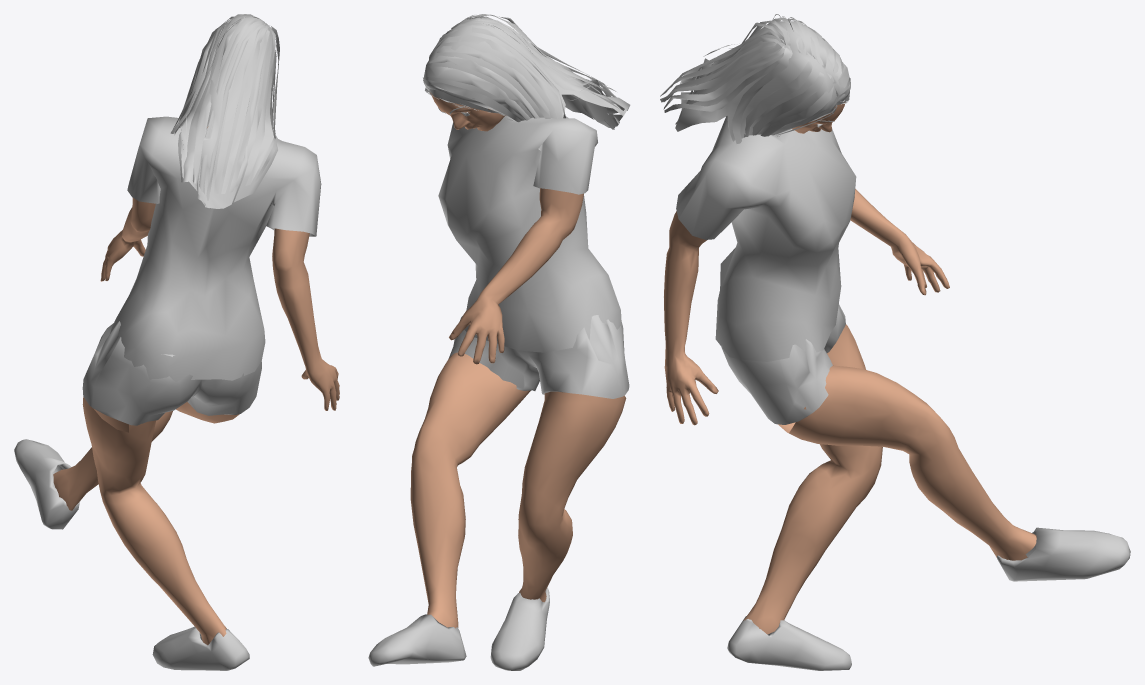
File: player2att_000028.obj
3 renders of one model, left to right at view 1: azimuth 30°, elevation 25°; view 2: azimuth 150°, elevation 25°; view 3: azimuth 270°, elevation 25°, orthographic. The views are drawn at different scales.
Parts seen in each view (by area): view 1: player2:tshirt02, player2:Body, player2:fhair01, player2:short01, player2:shoes02; view 2: player2:Body, player2:tshirt02, player2:fhair01, player2:short01, player2:shoes02; view 3: player2:Body, player2:tshirt02, player2:fhair01, player2:shoes02, player2:short01.
Boxes of the visible parts, left/top/right/bottom form: player2:tshirt02: left=110, top=116, right=321, bottom=388; player2:Body: left=53, top=126, right=339, bottom=645; player2:fhair01: left=170, top=14, right=279, bottom=208; player2:short01: left=82, top=321, right=261, bottom=425; player2:shoes02: left=14, top=439, right=249, bottom=670; player2:Body: left=410, top=92, right=626, bottom=628; player2:tshirt02: left=438, top=116, right=621, bottom=352; player2:fhair01: left=423, top=14, right=630, bottom=129; player2:short01: left=448, top=315, right=629, bottom=398; player2:shoes02: left=368, top=587, right=549, bottom=670; player2:Body: left=664, top=102, right=1036, bottom=634; player2:tshirt02: left=676, top=116, right=856, bottom=361; player2:fhair01: left=660, top=14, right=850, bottom=143; player2:shoes02: left=727, top=527, right=1130, bottom=670; player2:short01: left=721, top=304, right=845, bottom=424.
Bounding box in the file's own units: 5.05 × 15.32 × 9.67.
